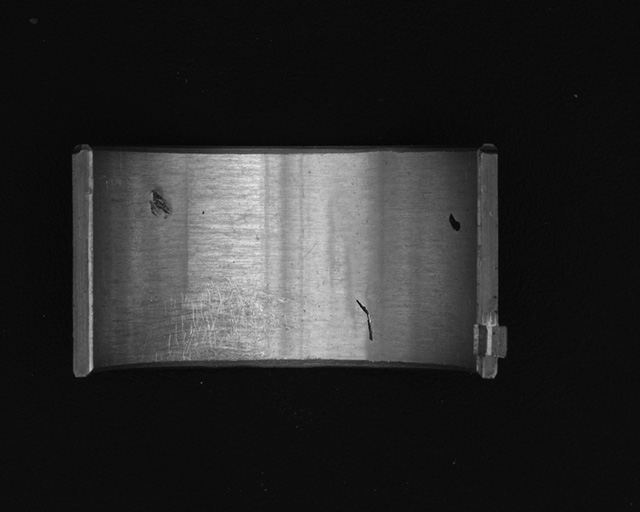blot: (448, 213, 462, 233)
bruise: (148, 187, 173, 221)
nick: (356, 300, 374, 342)
scratch: (154, 282, 301, 361)
